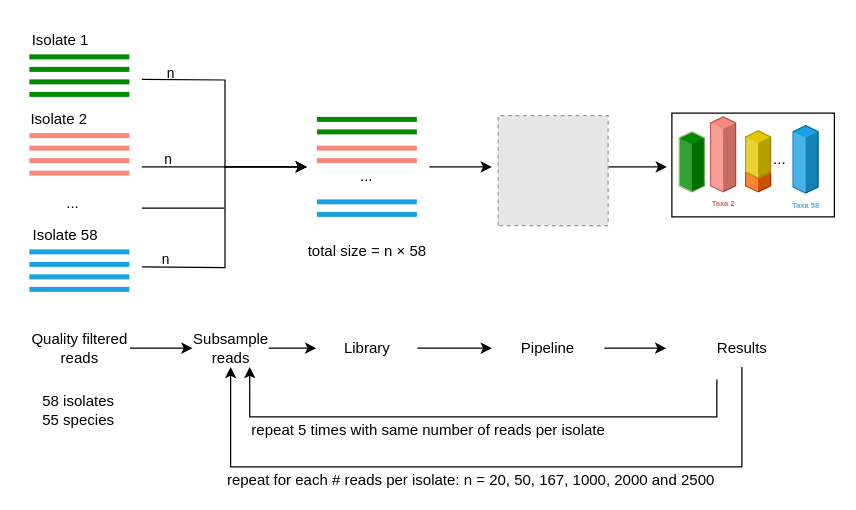
This 856x510 diagram has some shape labels left out. Grey dashed boxes stand in for pictures. Each missing label, with the centre of its shape:
Taxa 1: point (691, 161)
Taxa 3: point (757, 179)
